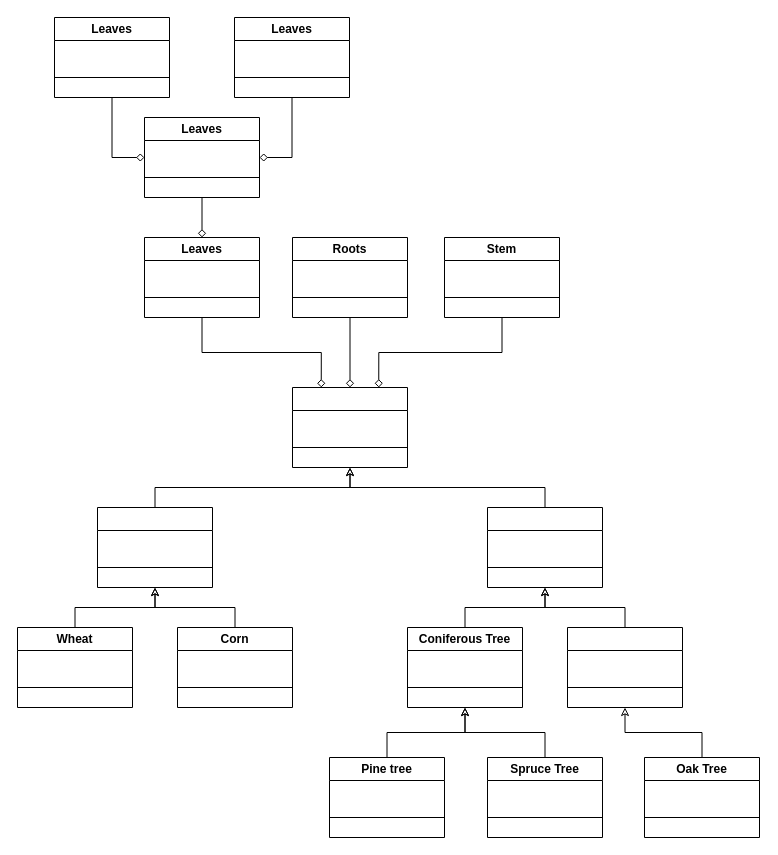
This 778x855 diagram has some shape labels left out. The shapes that lost their labels are listed below. From the top down, each one's centre as x and y in pixels, then its label:
At point 350,427: "Plant".
At point 154,547: "Crops".
At point 544,547: "Tree".
At point 624,667: "Deciduous Tree".
